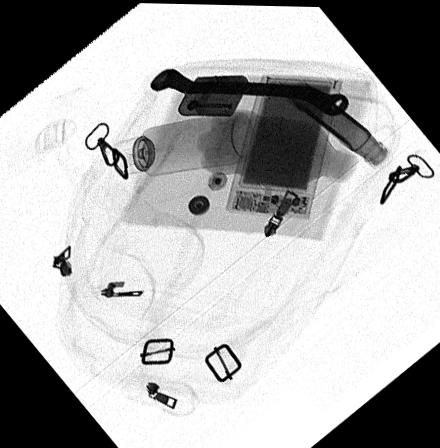Lighter: (177, 73, 249, 115)
Powerbank: (224, 73, 341, 218)
Sprayer: (107, 109, 256, 175)
